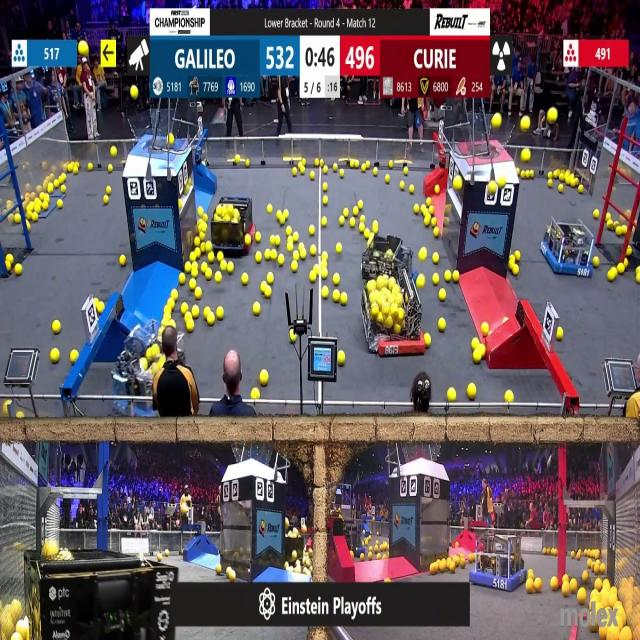ball_airborne: (492, 113, 502, 127), (521, 116, 531, 130), (549, 108, 558, 122), (78, 41, 87, 55), (453, 177, 462, 191), (132, 87, 140, 101), (489, 181, 497, 193), (522, 149, 530, 161), (498, 176, 505, 187), (169, 136, 174, 146)
ball_ground: (576, 589, 585, 605), (467, 384, 475, 399), (50, 349, 58, 363), (262, 372, 270, 386), (54, 320, 62, 334), (562, 584, 570, 598), (504, 390, 513, 402), (70, 350, 78, 363), (472, 350, 480, 363), (252, 304, 260, 317), (533, 580, 541, 593), (551, 577, 559, 590), (556, 327, 564, 340), (526, 581, 534, 594), (439, 318, 446, 332), (339, 352, 346, 366), (570, 580, 577, 594), (448, 388, 456, 400), (608, 270, 616, 282), (214, 272, 222, 284), (482, 323, 490, 335), (251, 388, 259, 400), (417, 276, 425, 288), (331, 290, 339, 302), (430, 562, 438, 574), (186, 319, 193, 332), (216, 307, 223, 320), (420, 248, 427, 261), (178, 274, 186, 285), (445, 271, 453, 282), (207, 315, 215, 326), (334, 275, 342, 286), (242, 274, 249, 286), (193, 287, 200, 299), (191, 307, 198, 319), (513, 265, 520, 277), (440, 288, 447, 300), (453, 272, 460, 284), (341, 292, 348, 304), (226, 568, 233, 580), (599, 628, 606, 640), (216, 252, 224, 262), (244, 236, 252, 246), (291, 233, 299, 243), (292, 250, 300, 260), (424, 335, 430, 348), (268, 274, 275, 285), (266, 286, 273, 297), (593, 256, 600, 267), (98, 303, 105, 314), (298, 249, 305, 260), (206, 242, 213, 253), (259, 282, 266, 293), (119, 254, 125, 266), (14, 265, 20, 277), (322, 287, 328, 299), (432, 274, 438, 286), (286, 243, 294, 252), (371, 221, 377, 233), (208, 252, 215, 262), (172, 289, 179, 299), (278, 254, 285, 264), (619, 266, 626, 276), (188, 279, 195, 289), (181, 304, 188, 314), (515, 250, 522, 260), (193, 248, 200, 258), (595, 578, 602, 588), (310, 273, 316, 284), (274, 236, 280, 247), (471, 339, 477, 350), (266, 249, 272, 260), (60, 174, 66, 185), (190, 270, 197, 279), (291, 263, 297, 273), (594, 209, 600, 219), (226, 264, 232, 274), (254, 234, 260, 244), (255, 252, 261, 262), (340, 216, 346, 226), (337, 244, 343, 254), (433, 228, 439, 238), (424, 217, 430, 227), (220, 263, 226, 273), (202, 264, 208, 274), (308, 225, 314, 235), (358, 222, 364, 232), (206, 270, 212, 280), (290, 334, 296, 344), (272, 250, 278, 260), (350, 218, 356, 228), (169, 297, 175, 307), (110, 146, 116, 156), (47, 183, 53, 193), (528, 568, 534, 578), (204, 308, 210, 318), (570, 177, 576, 187), (200, 233, 207, 241), (507, 264, 514, 272), (584, 570, 589, 581), (321, 271, 327, 280), (321, 217, 327, 226), (432, 253, 438, 262), (311, 246, 317, 255), (340, 169, 346, 178), (322, 197, 328, 206), (268, 205, 274, 214), (414, 205, 420, 214), (193, 238, 199, 247), (322, 251, 328, 260), (42, 202, 48, 211), (618, 226, 624, 235), (279, 214, 285, 223), (422, 206, 428, 215), (5, 264, 11, 273), (291, 552, 297, 561), (429, 207, 435, 216), (201, 222, 207, 231), (184, 264, 189, 274), (344, 208, 349, 218), (68, 164, 73, 174), (331, 166, 338, 173), (165, 306, 172, 313), (322, 182, 328, 190), (352, 208, 358, 216), (286, 226, 292, 234), (314, 266, 320, 274), (32, 213, 38, 221), (322, 167, 328, 175), (563, 574, 569, 582), (426, 199, 432, 207), (6, 254, 12, 262), (382, 554, 388, 562), (314, 160, 320, 168), (198, 208, 204, 216), (434, 184, 439, 193), (216, 565, 221, 574), (106, 185, 111, 194), (284, 209, 289, 218), (358, 201, 363, 210), (385, 576, 391, 583), (61, 185, 67, 192), (627, 248, 633, 255), (297, 243, 303, 250), (59, 201, 64, 209), (385, 175, 390, 183), (431, 218, 436, 226), (364, 232, 369, 240), (399, 182, 404, 190), (292, 168, 297, 176), (559, 184, 564, 192), (547, 180, 552, 188), (359, 215, 364, 223), (371, 168, 376, 176), (73, 167, 78, 175), (14, 215, 19, 223), (636, 274, 640, 284), (547, 172, 552, 180), (311, 172, 316, 180), (588, 560, 593, 568), (606, 213, 611, 221), (520, 171, 525, 179), (411, 184, 415, 193), (108, 166, 113, 173), (359, 555, 364, 562), (89, 165, 94, 172), (299, 168, 304, 175), (360, 166, 365, 173), (304, 568, 309, 575), (284, 563, 289, 570), (578, 184, 582, 192), (403, 168, 407, 176), (104, 197, 108, 205), (244, 159, 248, 167), (530, 170, 534, 178), (624, 258, 628, 266), (28, 221, 32, 229), (172, 319, 176, 326), (387, 160, 391, 167), (378, 554, 382, 561), (367, 554, 371, 561), (164, 552, 168, 558), (163, 318, 166, 326), (571, 553, 575, 559)
goal: (460, 119, 515, 159), (129, 115, 188, 152)
robot_blue: (113, 339, 168, 414), (472, 532, 527, 592), (540, 223, 594, 278), (209, 196, 253, 256), (362, 234, 413, 283)
robot_red: (362, 279, 425, 352), (445, 0, 488, 6)
